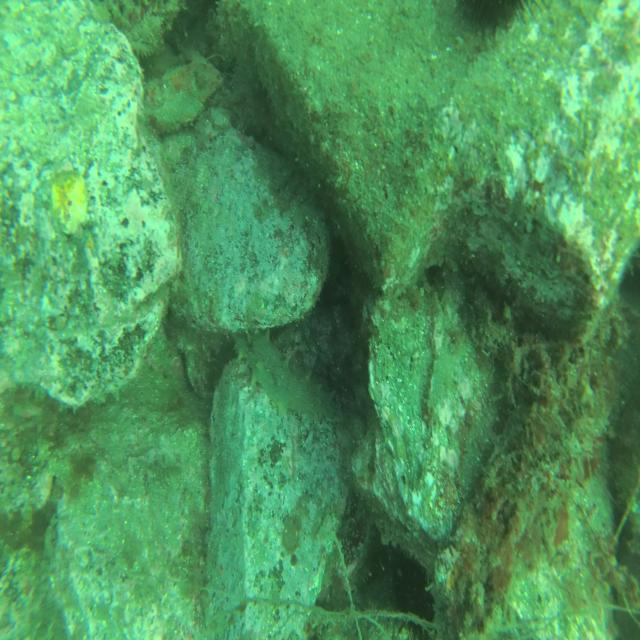echinus: (452, 0, 538, 38), (393, 554, 432, 614)
holothurian: (231, 328, 347, 428)
